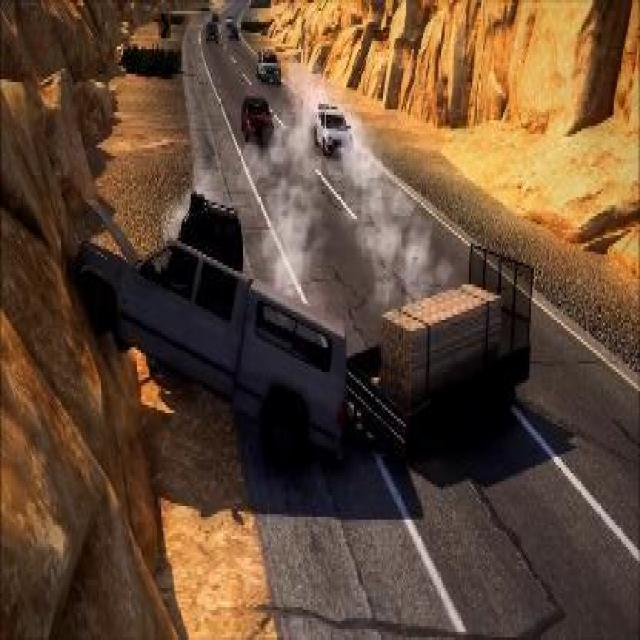accident: (64, 178, 536, 470)
